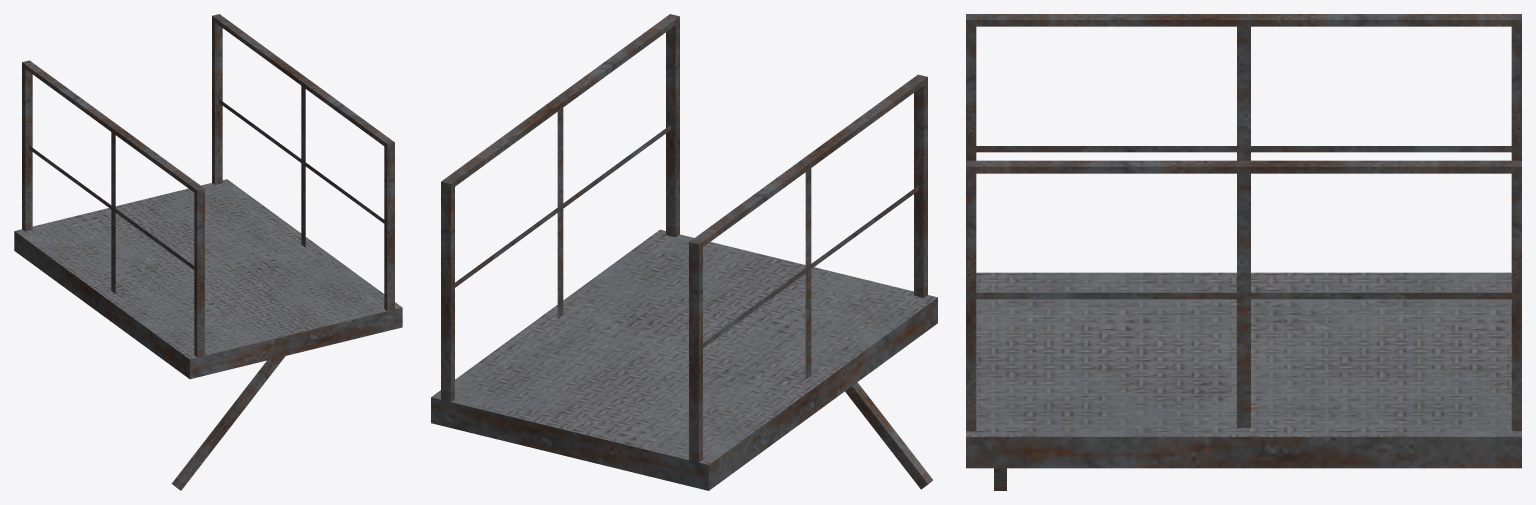
File: mMetalCatwalkFullS01.fbx
The picture shows the model from 3 angles, left to right: view 1: azimuth 30°, elevation 25°; view 2: azimuth 150°, elevation 25°; view 3: azimuth 270°, elevation 25°; orthographic projection. The views are drawn at different scales.
Visible parts, largest first — view 1: MetalCatwalkFullS01; view 2: MetalCatwalkFullS01; view 3: MetalCatwalkFullS01.
Boxes of the visible parts, <box> form: MetalCatwalkFullS01: <box>14,14,402,490</box>; MetalCatwalkFullS01: <box>431,14,937,490</box>; MetalCatwalkFullS01: <box>966,14,1521,490</box>.
Bounding box in the file's own units: 287 × 383 × 400.
